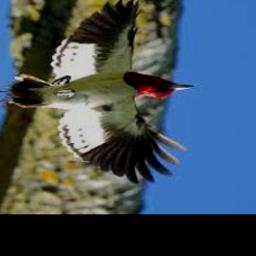Woodpecker: (0, 0, 194, 184)
